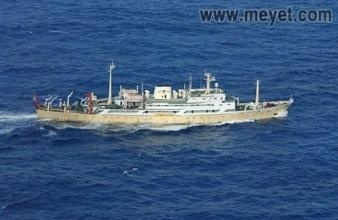otherboat: (23, 73, 304, 128)
